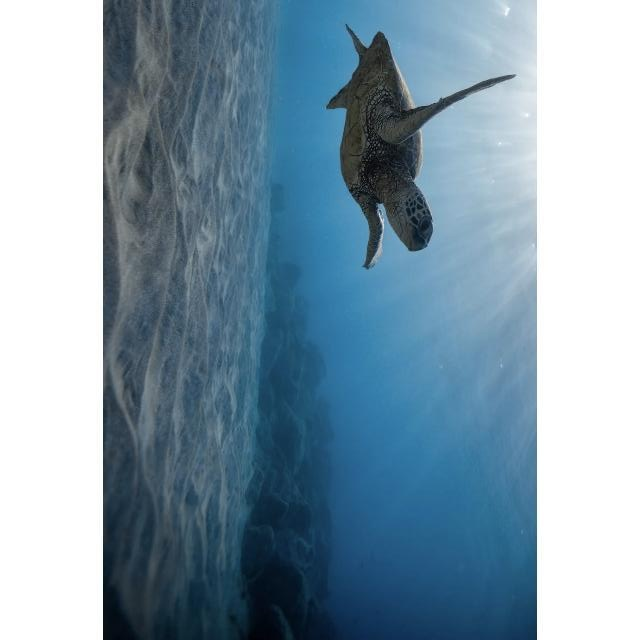turtle: (326, 21, 517, 272)
